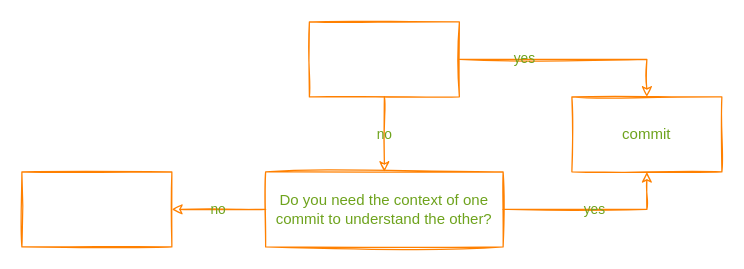
The diagram is 744 pixels wide and 269 high, and some of its shapes have lost their labels. The centre of each missing label's shape, as x and y in pixels:
Is it a single logical change?: (383,59)
Split the commit: (96,209)
